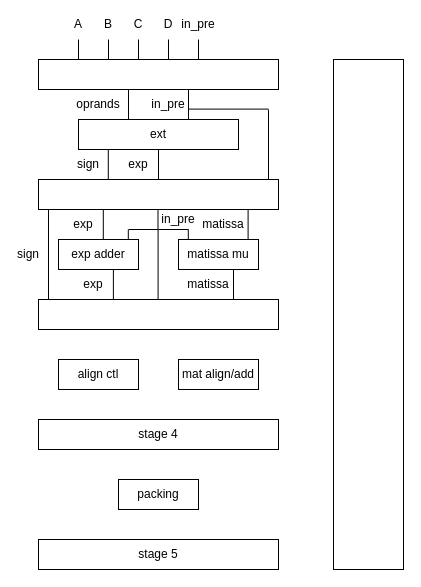
Some shapes in this 421 by 587 pixel diagram are drawn without their labels. The centre of each missing label's shape, as x and y in pixels:
"ctl" belongs at point 368,314.
"stage 1" belongs at point 158,74.
"stage 2" belongs at point 158,194.
"stage 3" belongs at point 158,314.
